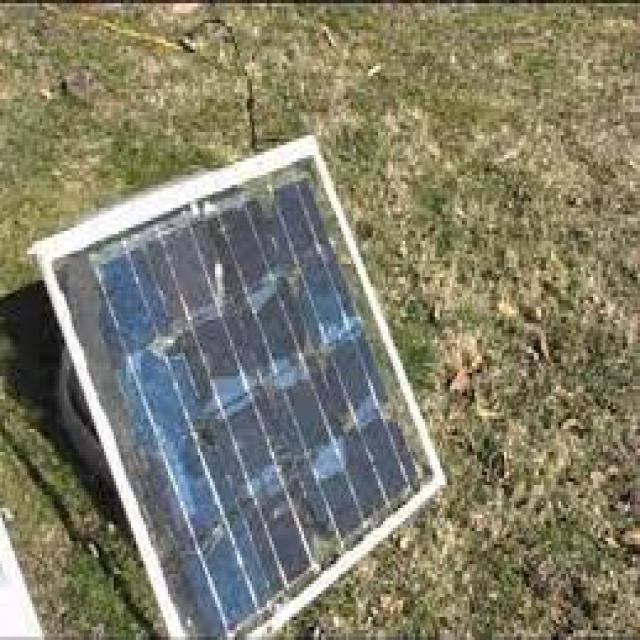faulty: (55, 165, 434, 638)
